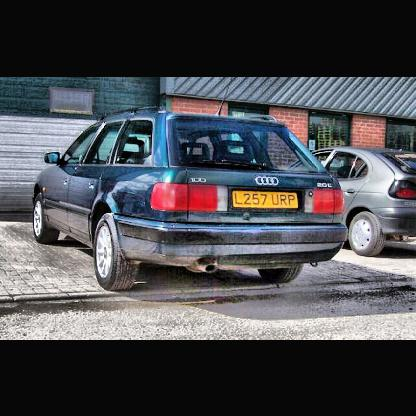Audi 100 Wagon 1994: (35, 85, 350, 291)
